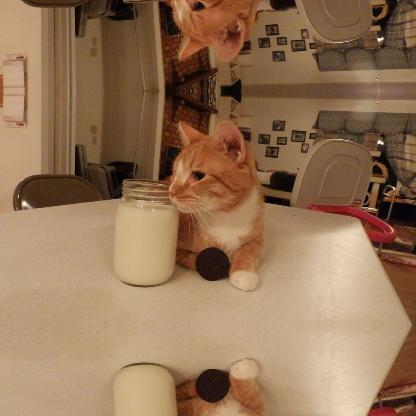Cat: (161, 118, 266, 294), (161, 0, 267, 63), (161, 354, 267, 415)
